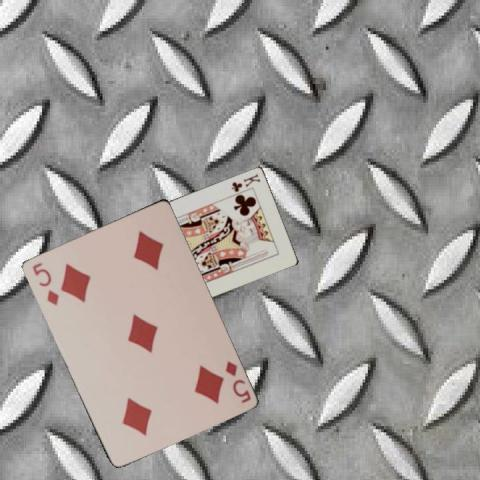5d: (29, 259, 60, 307), (222, 358, 252, 405)
Kc: (229, 170, 262, 192)
